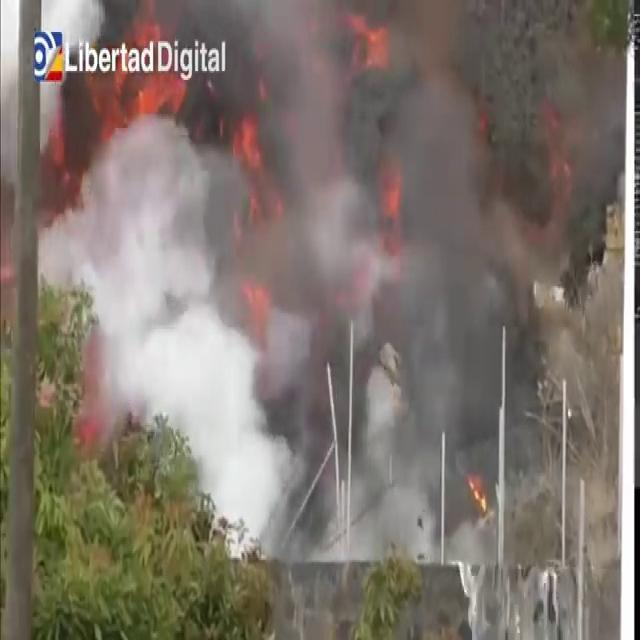Smoke: (47, 24, 539, 533)
